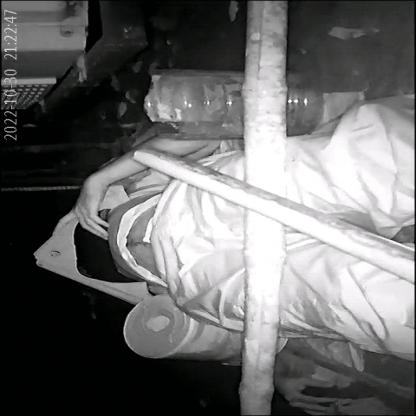hand: (40, 146, 141, 242)
